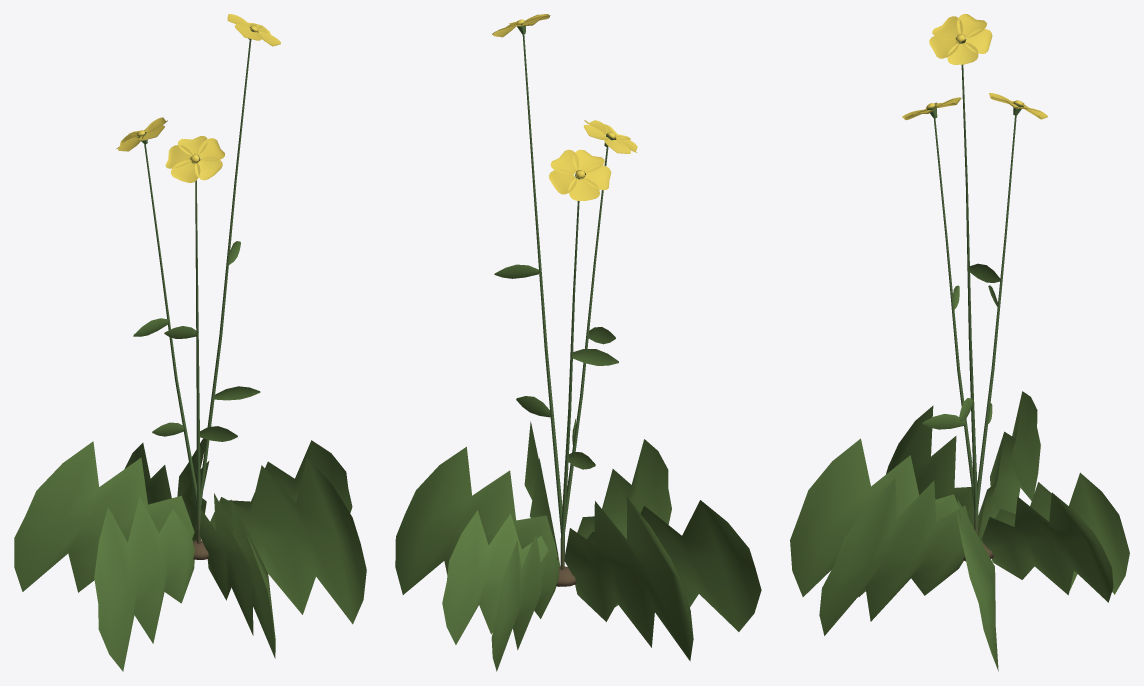
The model's file is Buttercup.glb.
3 views of the same model, side by side, from view 1: azimuth 30°, elevation 25°; view 2: azimuth 150°, elevation 25°; view 3: azimuth 270°, elevation 25° (orthographic). The views are drawn at different scales.
Visible parts, largest first — view 1: Plant; view 2: Plant; view 3: Plant.
Boxes of the visible parts, x1=… form: Plant: x1=14, y1=14, x2=366, y2=671; Plant: x1=395, y1=14, x2=761, y2=671; Plant: x1=790, y1=14, x2=1129, y2=671.
Bounding box in the file's own units: 0.269 × 0.4814 × 0.2427.
